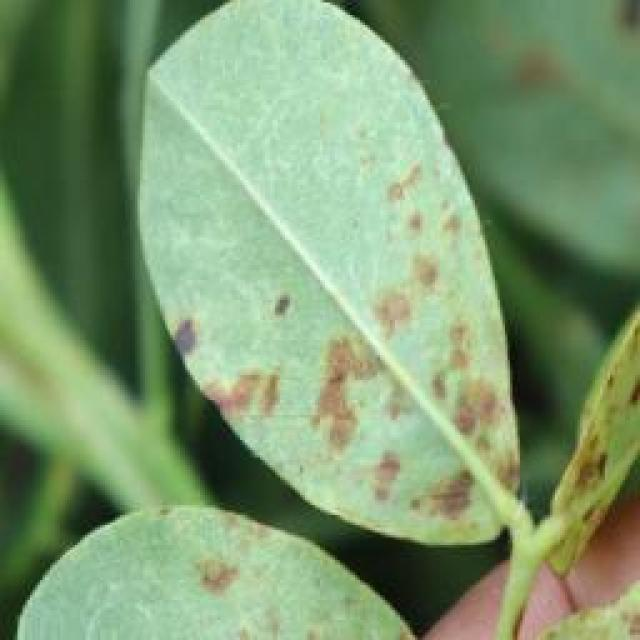Whitefly: (148, 125, 638, 640)
